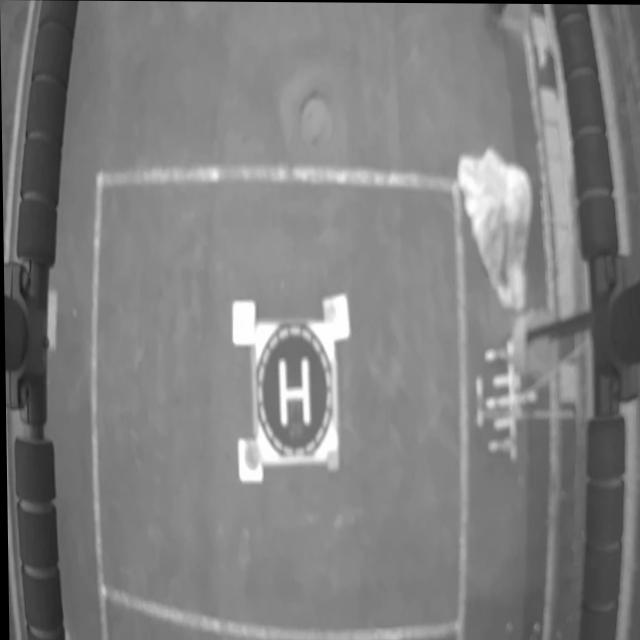Helipad: (278, 357, 309, 427)
